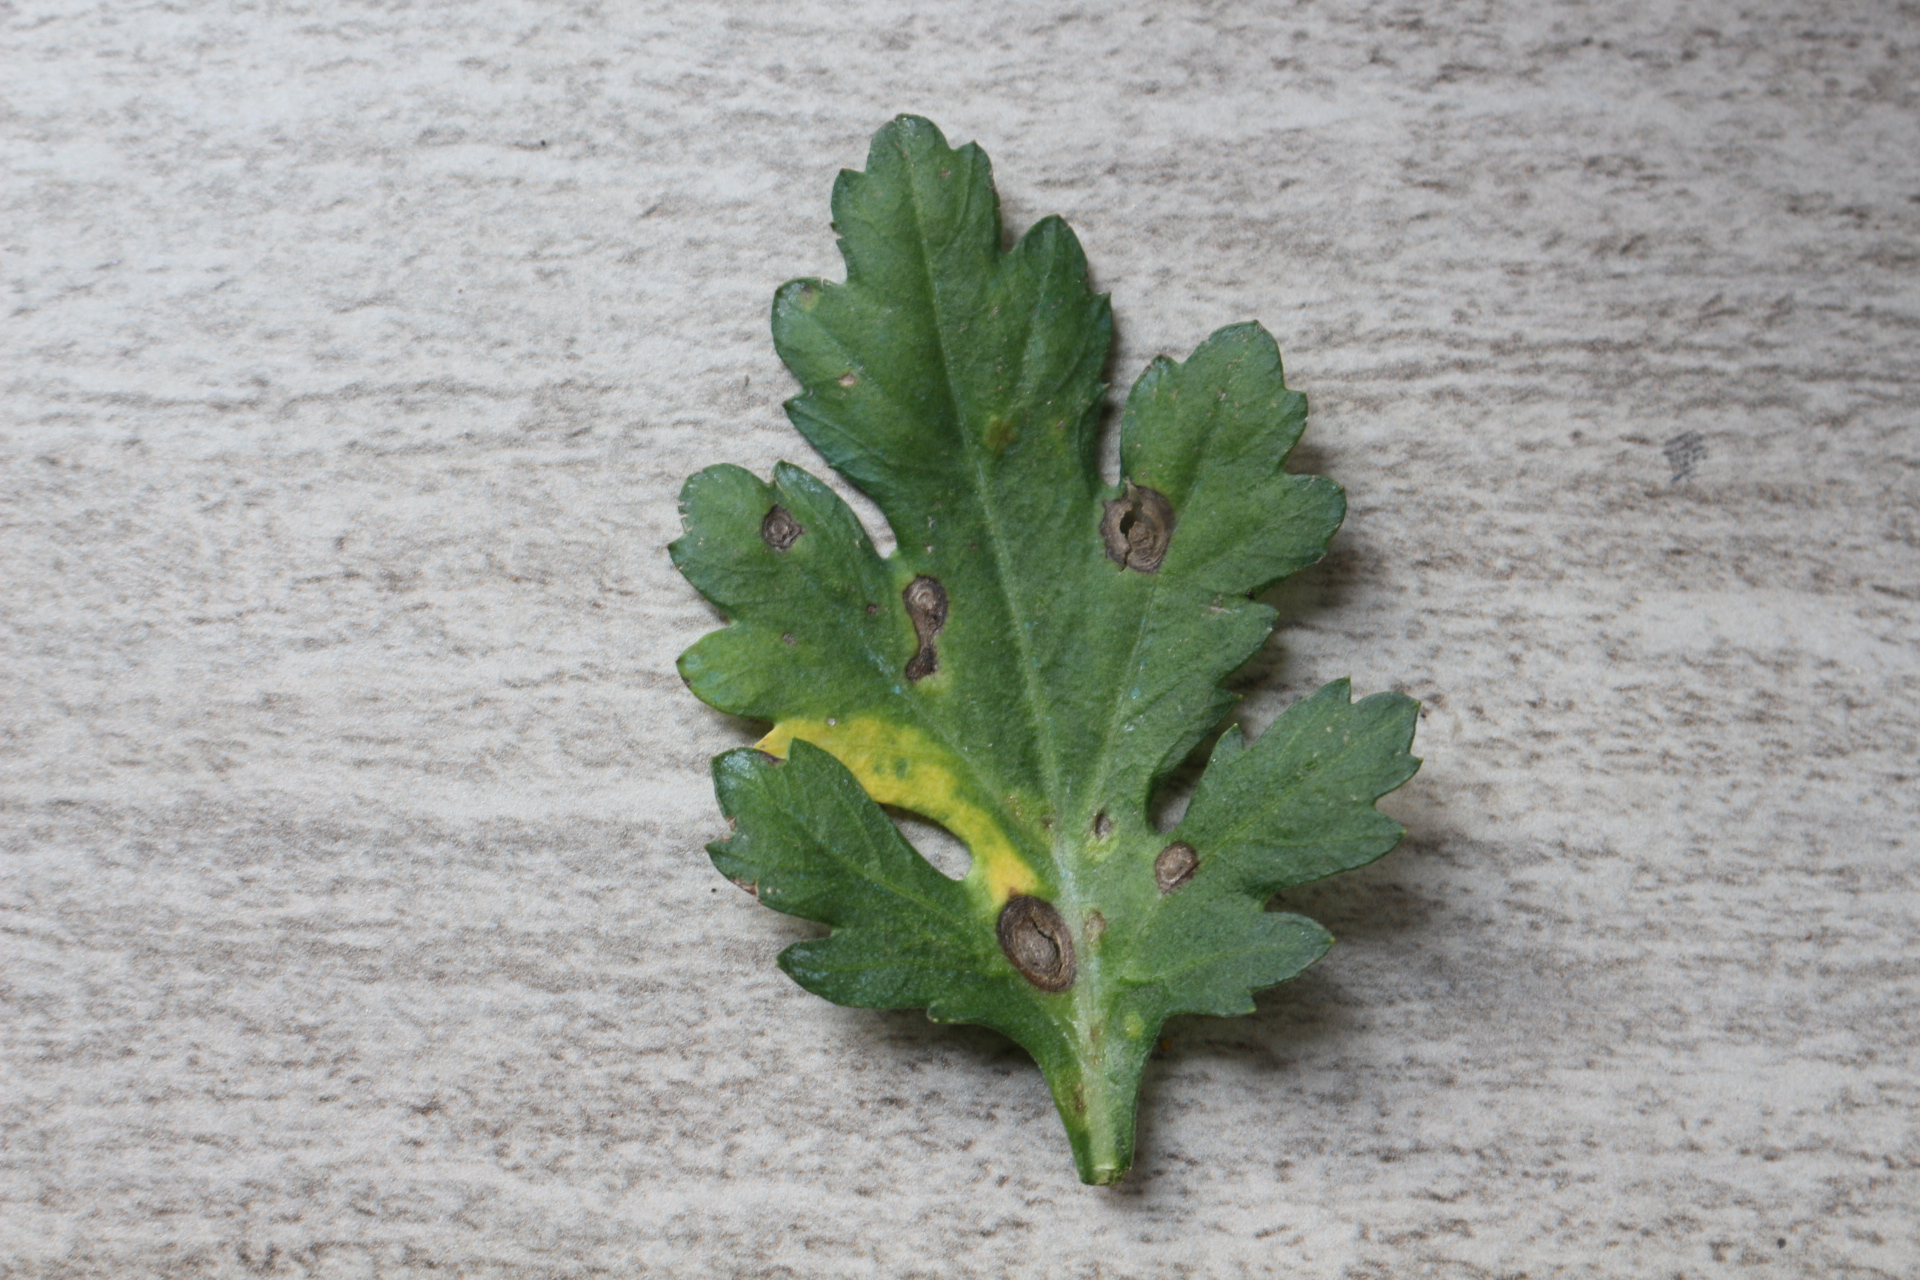namden: (994, 891, 1084, 1000), (889, 569, 956, 684), (1100, 486, 1186, 571), (1149, 834, 1201, 894), (754, 503, 804, 559)
